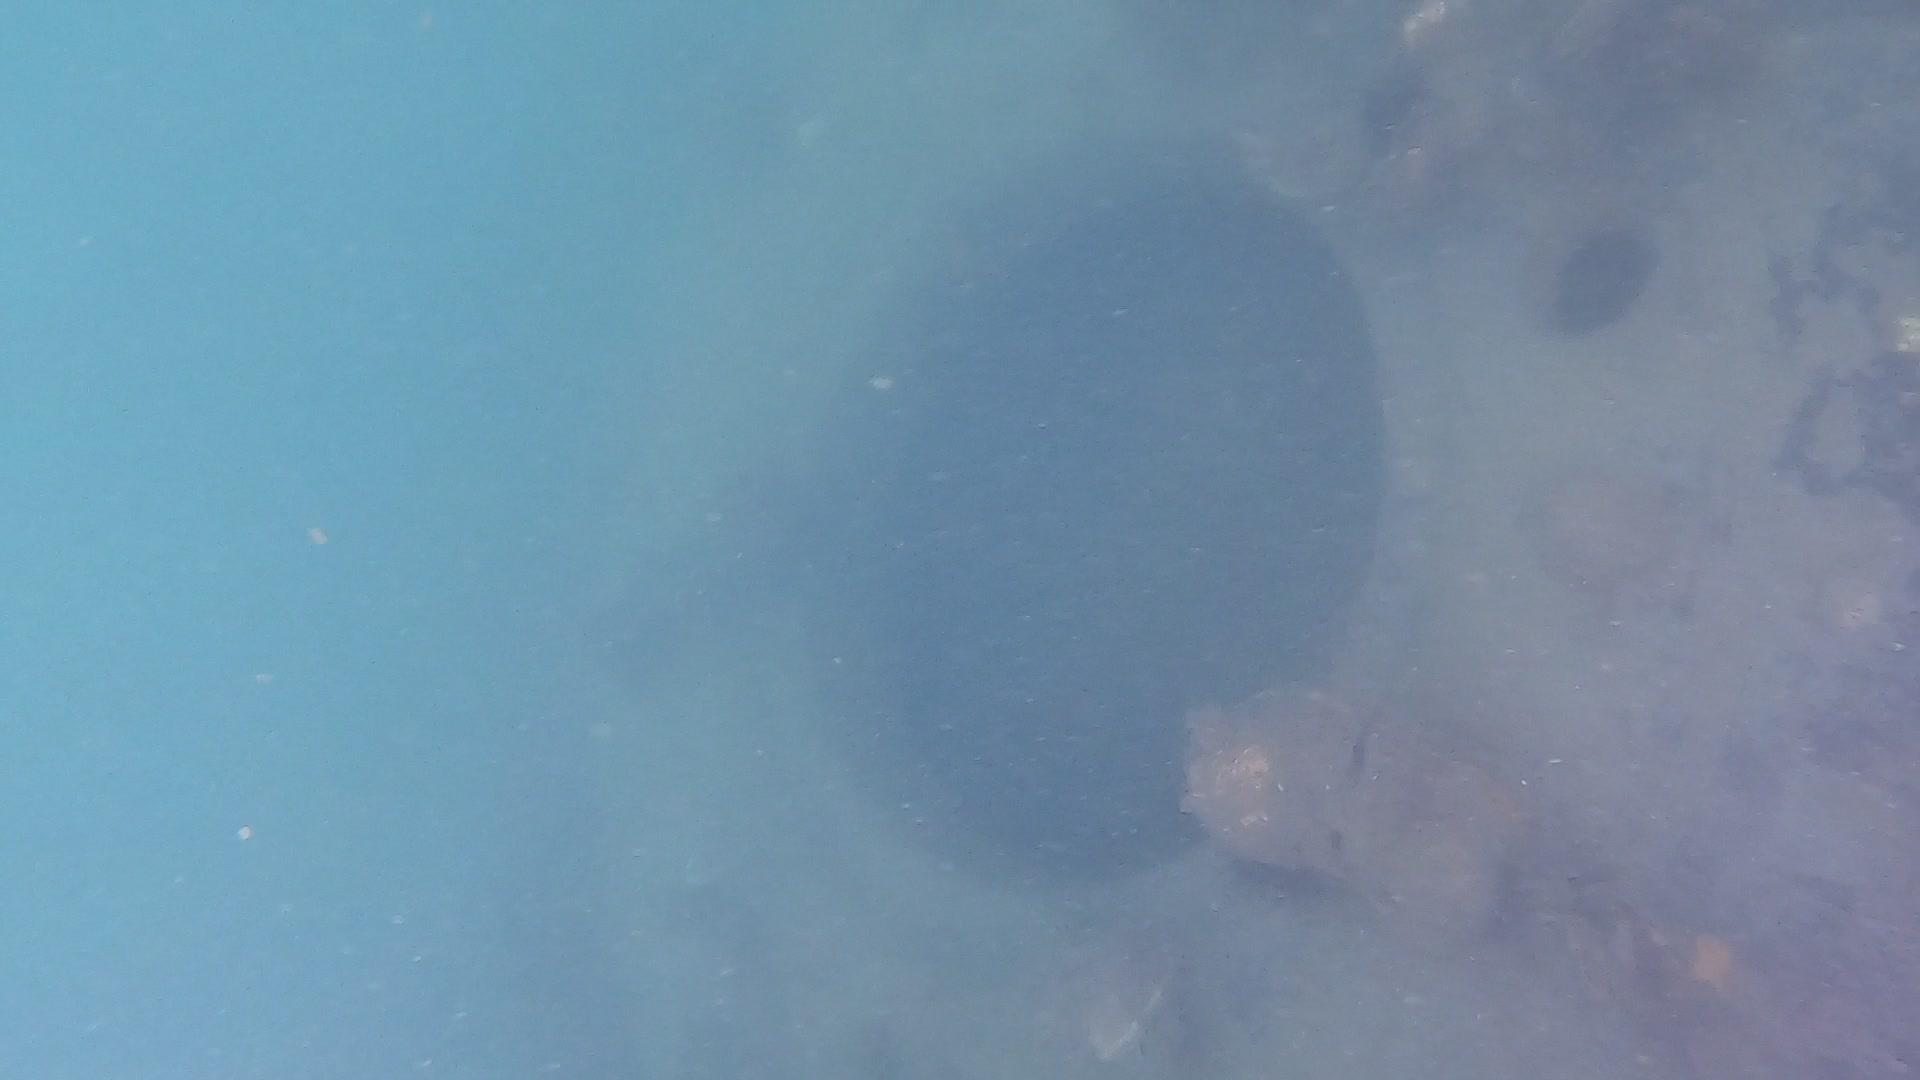tire: (583, 0, 1920, 1080)
